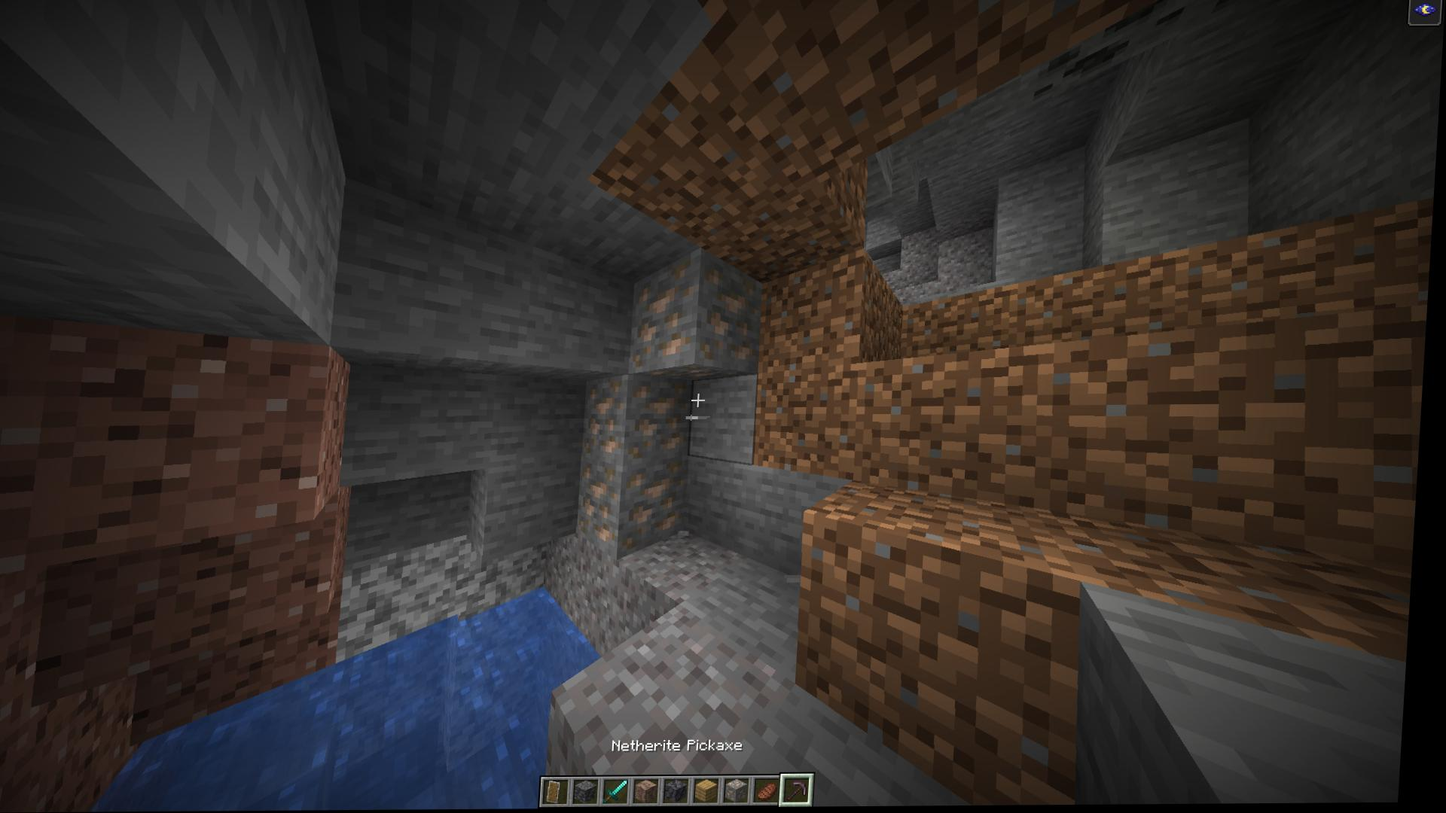iron ore: (634, 257, 770, 375), (583, 378, 696, 468), (582, 466, 691, 556)
